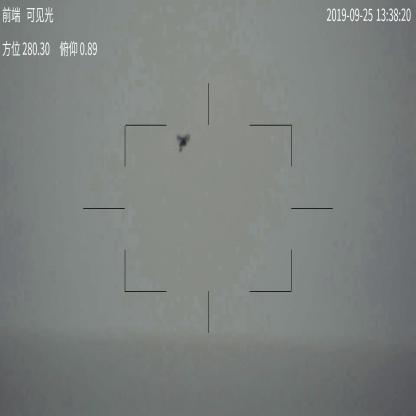uav: (174, 131, 192, 154)
